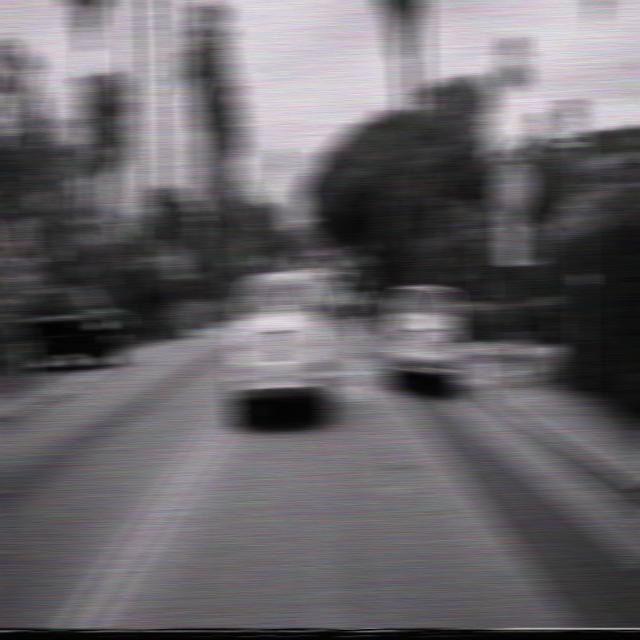stop: (494, 162, 532, 218)
